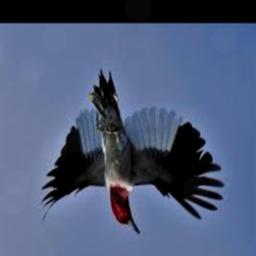Woodpecker: (40, 70, 223, 233)
